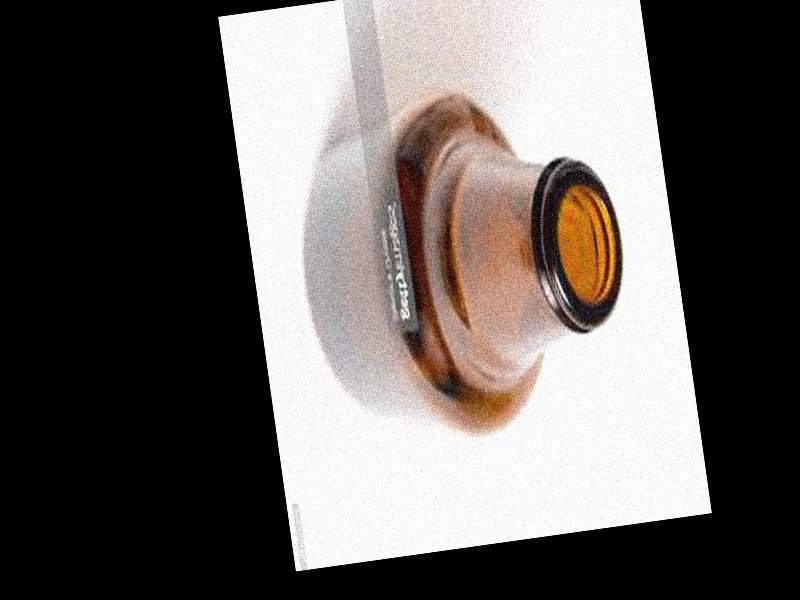Beer: (280, 68, 646, 455)
